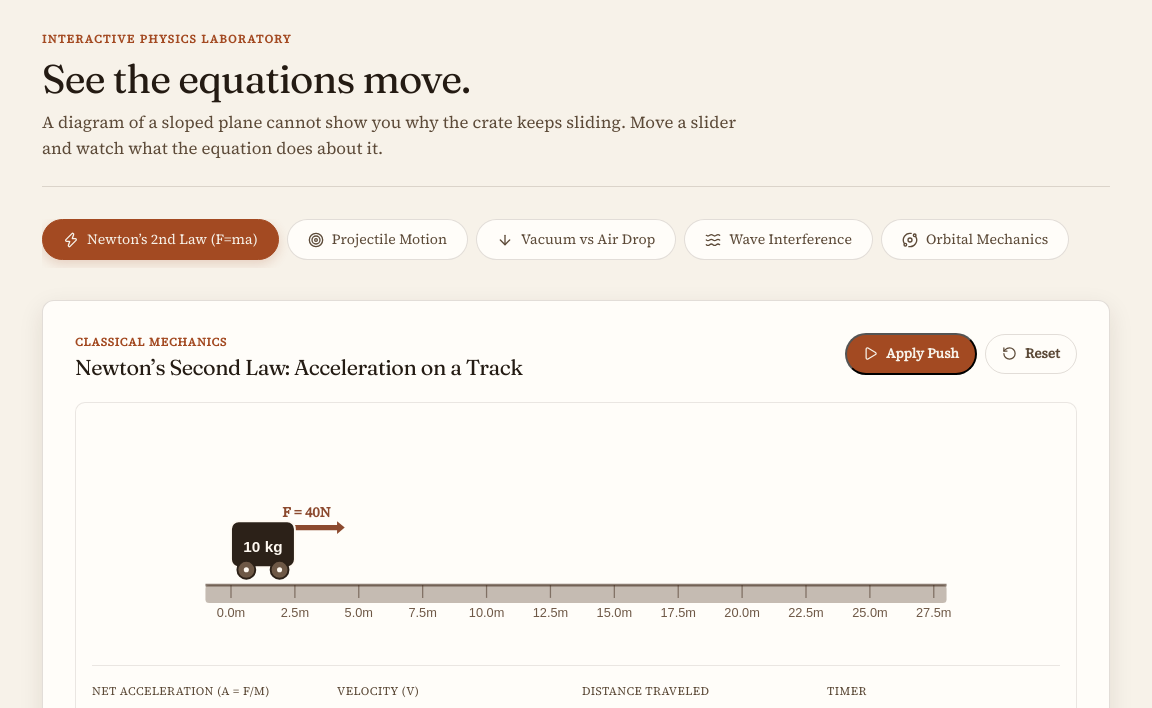
Test: Physics simulations › runs the wave sim without complaint when motion is welcome
Click the tab "Wave Interference".
click(779, 240)  # box [684,220,873,260]
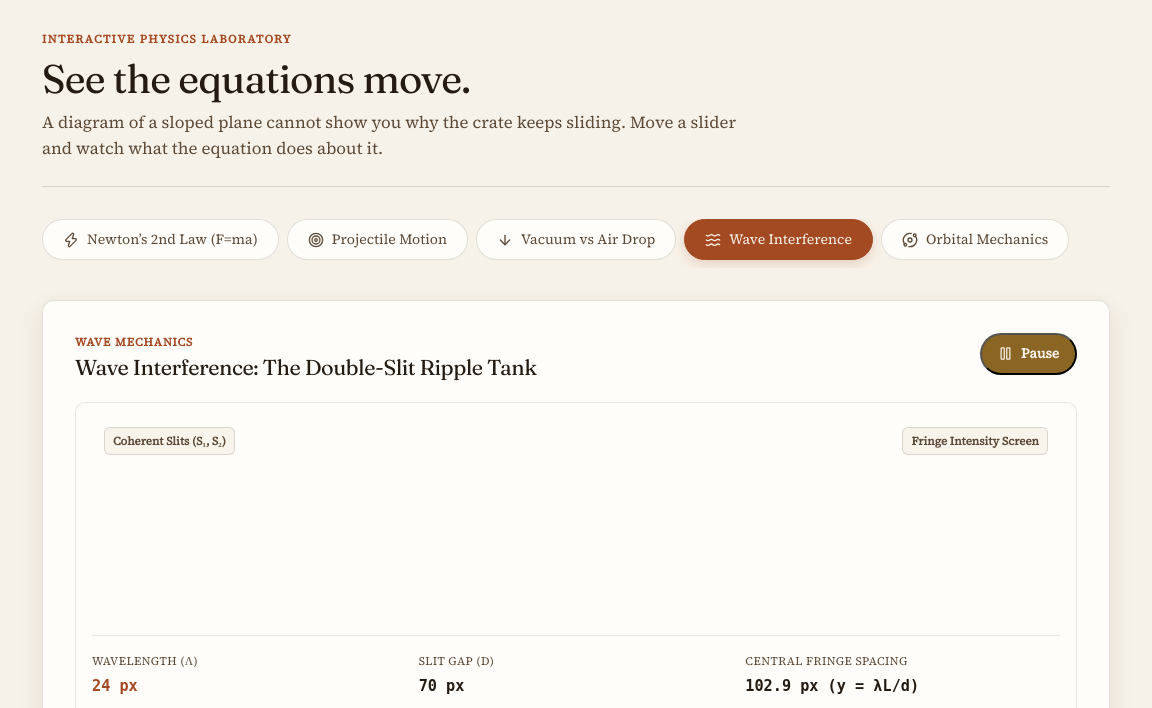
Now the button "Pause" is shown, box [980,333,1077,375]
